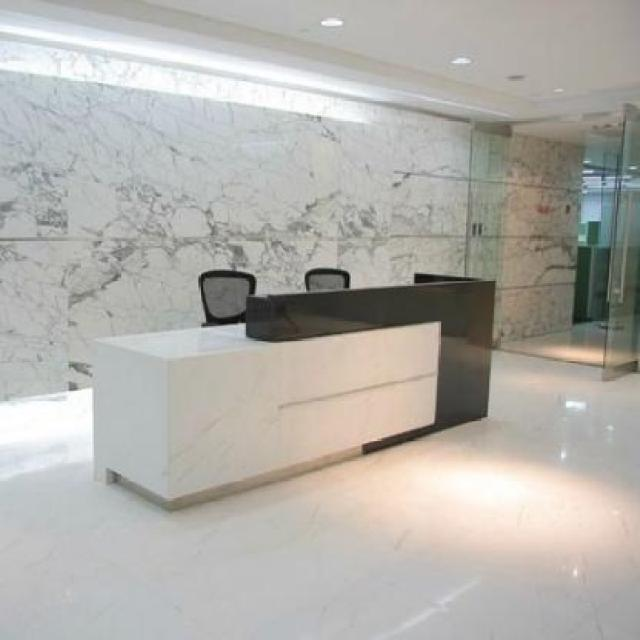frontdesk: (82, 254, 506, 524)
